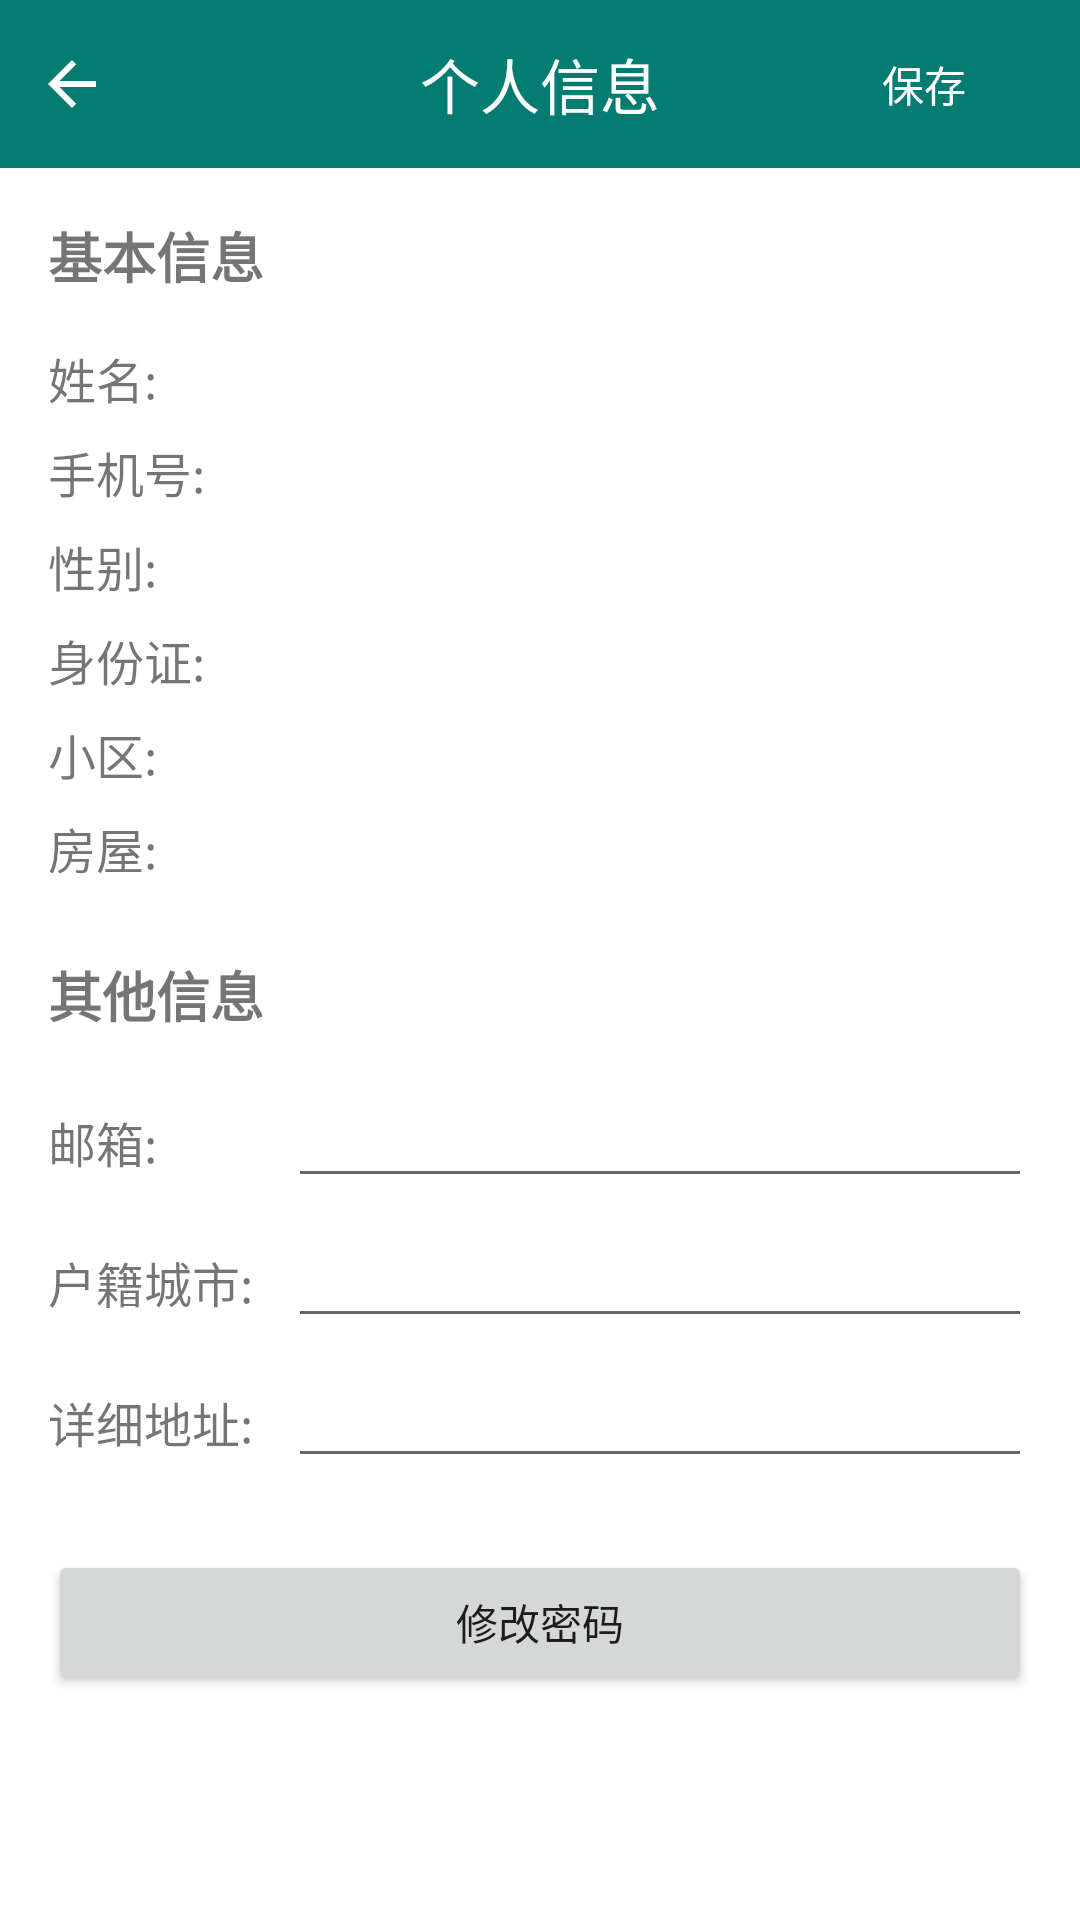

Icons on this 1080*1920 Android screen, each with its box as (x1, y1, x2, y2):
返回: (48, 60, 96, 108)
